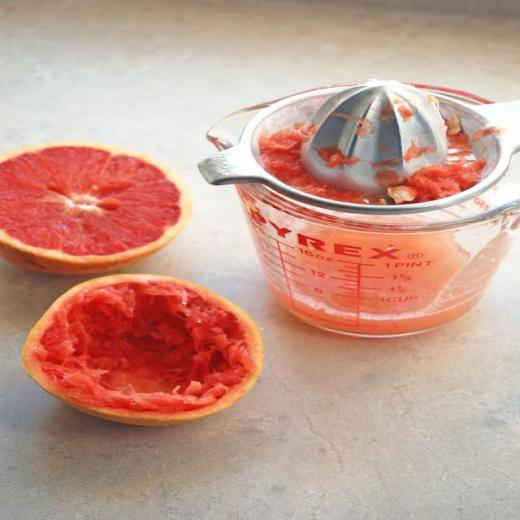Grape: (22, 274, 262, 426), (0, 139, 193, 275)
